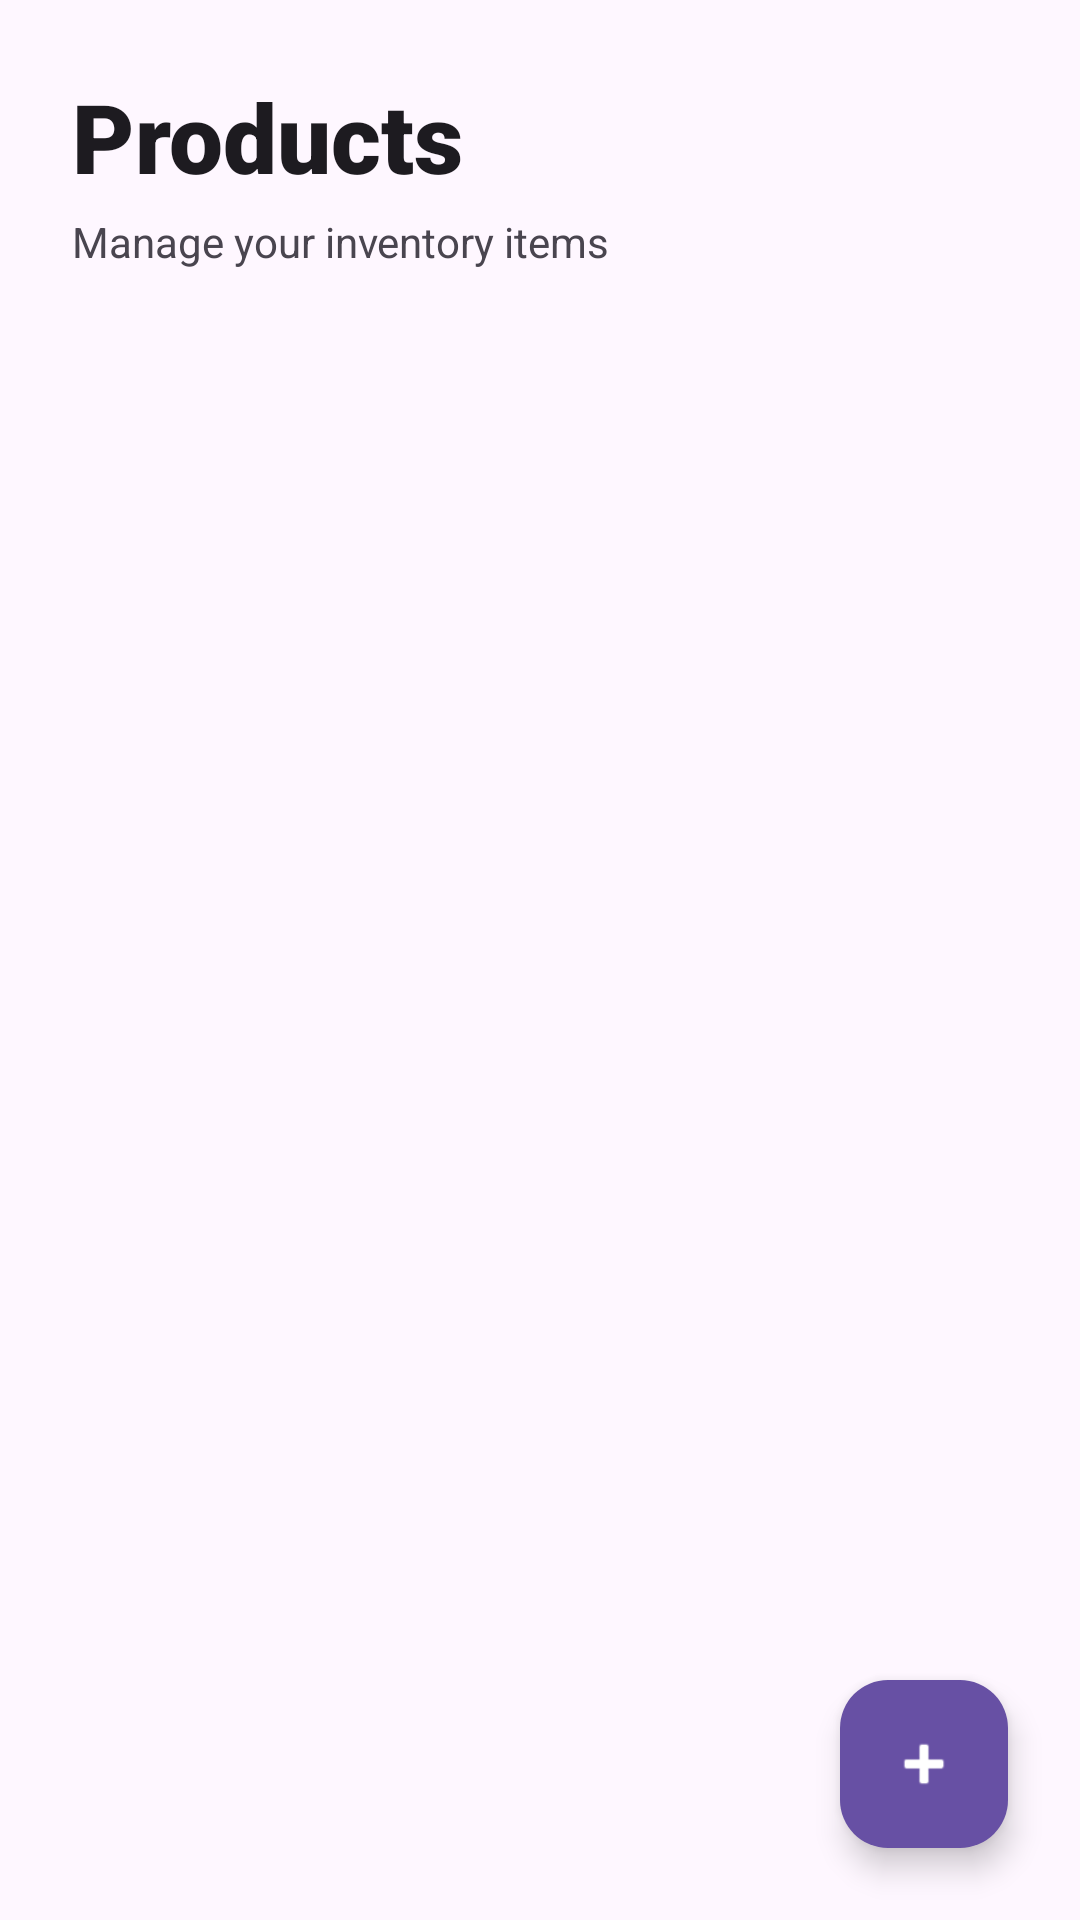

Icons on this 1080x1920 Android screen, each with the point to tap as [x,y]:
Add Product: [924,1764]
